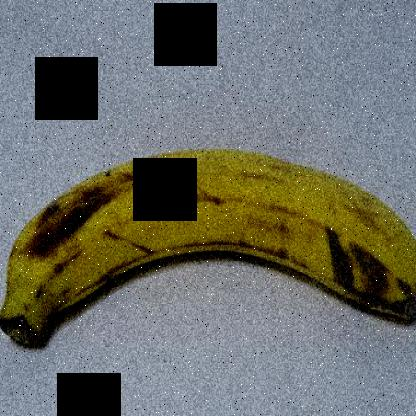overripe: (0, 135, 415, 373)
